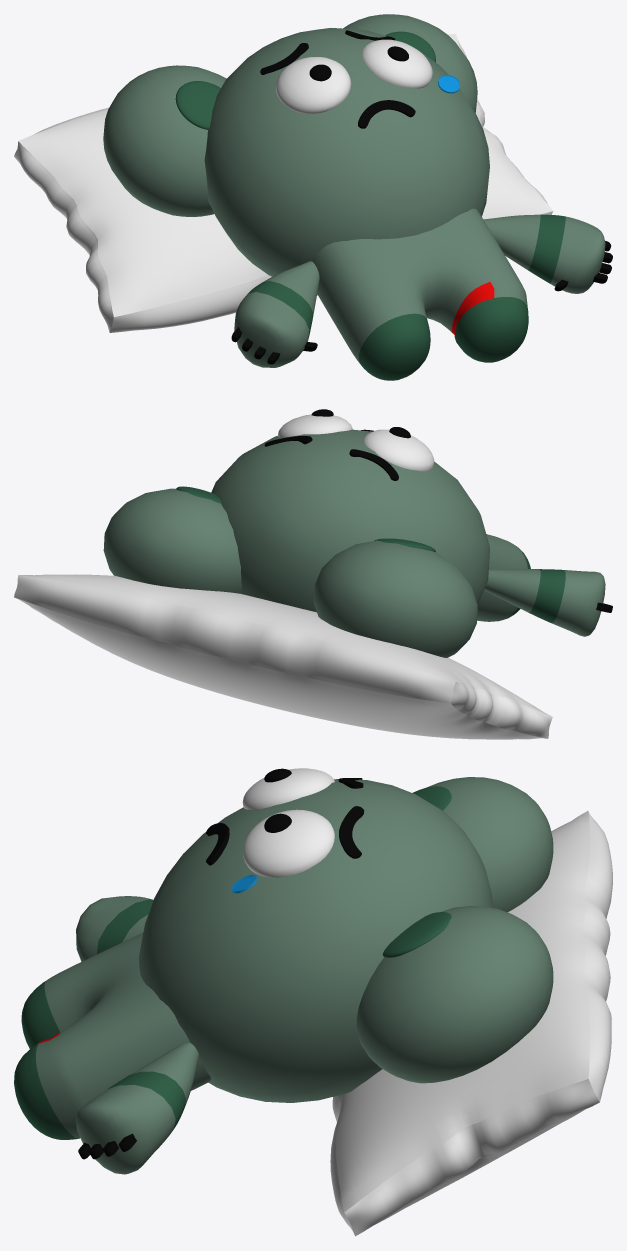
The model's file is rest.fbx.
The picture shows the model from 3 angles, top to bottom: view 1: azimuth 30°, elevation 25°; view 2: azimuth 150°, elevation 25°; view 3: azimuth 270°, elevation 25°; orthographic projection. The views are drawn at different scales.
Parts seen in each view (by area): view 1: head, polySurface2, body, right_ear, left_hand, right_hand, left_ear, right_eye, left_eye, mouth; view 2: polySurface2, head, right_ear, left_ear, right_hand, right_eye, body, left_eye, mouth2; view 3: head, polySurface2, left_ear, body, right_ear, left_hand, left_eye, right_hand, right_eye, mouth3.
Boxes of the visible parts, box(x1,y1,x2,y2) form: head: box(204, 28, 489, 295); polySurface2: box(14, 34, 552, 332); body: box(312, 208, 528, 380); right_ear: box(103, 65, 226, 216); left_hand: box(483, 214, 605, 293); right_hand: box(234, 261, 319, 367); left_ear: box(343, 14, 477, 112); right_eye: box(276, 57, 351, 113); left_eye: box(362, 39, 432, 88); mouth: box(358, 100, 415, 128); polySurface2: box(14, 574, 552, 739); head: box(211, 429, 489, 612); right_ear: box(313, 538, 477, 657); left_ear: box(103, 486, 241, 593); right_hand: box(484, 569, 605, 636); right_eye: box(363, 427, 434, 471); body: box(477, 534, 530, 621); left_eye: box(278, 409, 352, 437); mouth2: box(349, 449, 398, 480); head: box(139, 779, 492, 1102); polySurface2: box(330, 811, 612, 1236); left_ear: box(356, 906, 553, 1083); body: box(14, 933, 210, 1139); right_ear: box(413, 777, 553, 912); left_hand: box(76, 1043, 199, 1174); left_eye: box(243, 809, 334, 877); right_hand: box(76, 896, 153, 961); right_eye: box(242, 768, 334, 809); mouth3: box(339, 806, 364, 858).
Size of the model in its own units: 18.48 by 10.17 by 17.19.
